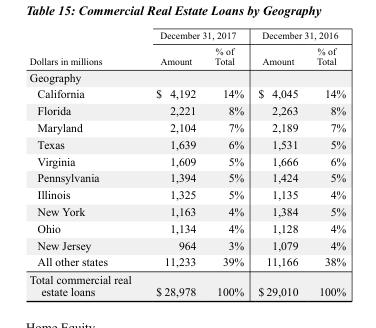table: (28, 29, 345, 297)
table column: (28, 29, 143, 297), (143, 29, 204, 297), (250, 29, 306, 297), (204, 29, 250, 297), (306, 29, 345, 297)
table column header: (28, 29, 345, 68)
table projected row header: (28, 68, 345, 85)
table row: (28, 270, 345, 297), (28, 42, 345, 68), (28, 68, 345, 85), (28, 101, 345, 118), (28, 118, 345, 135), (28, 135, 345, 152), (28, 152, 345, 169), (28, 185, 345, 202), (28, 202, 345, 219), (28, 219, 345, 236), (28, 236, 345, 253), (28, 253, 345, 270), (28, 85, 345, 101), (28, 169, 345, 185), (28, 29, 345, 42)
table spanning cell: (28, 29, 143, 68), (143, 29, 250, 42), (250, 29, 345, 42)
